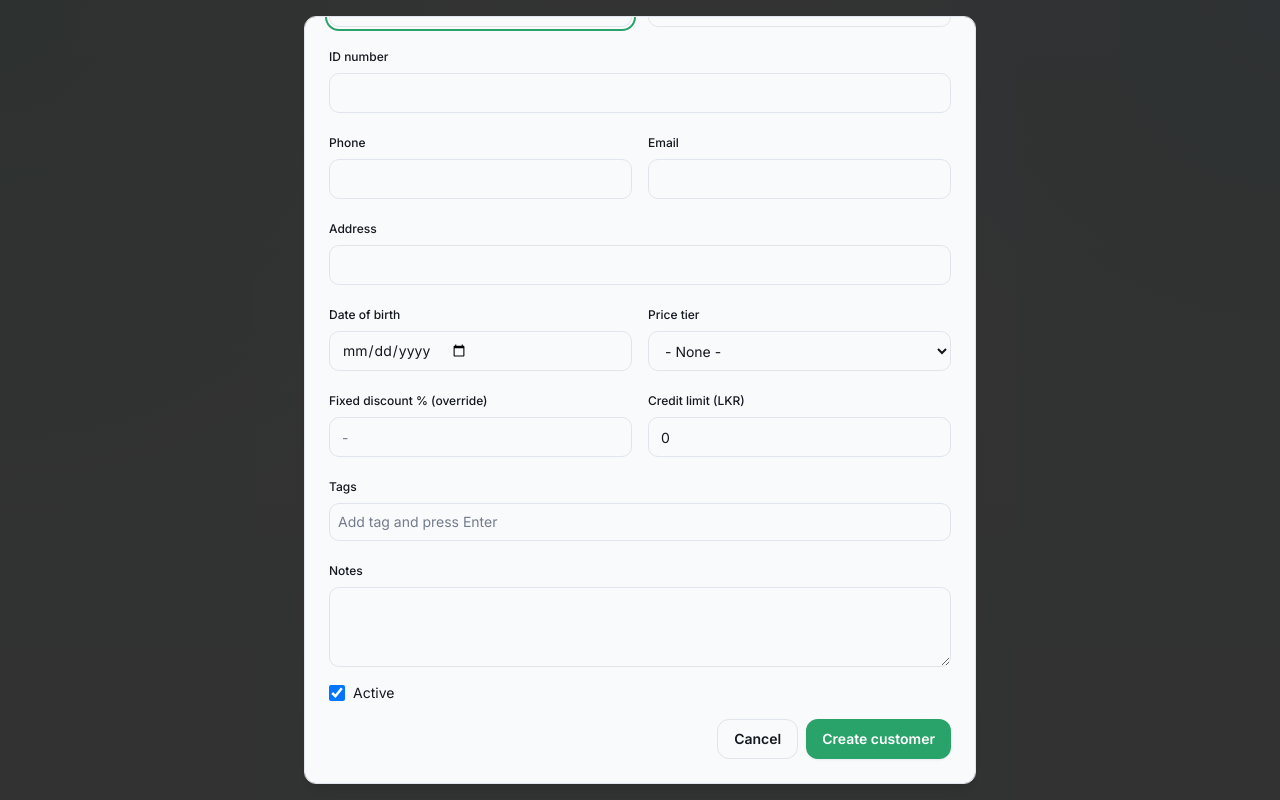
Scenario: CustomerCreateDialog › shows a required error when name is empty
The image size is (1280, 800).
(page scrolled)
Click the button "Create customer".
click(879, 739)  # box [806,719,951,759]
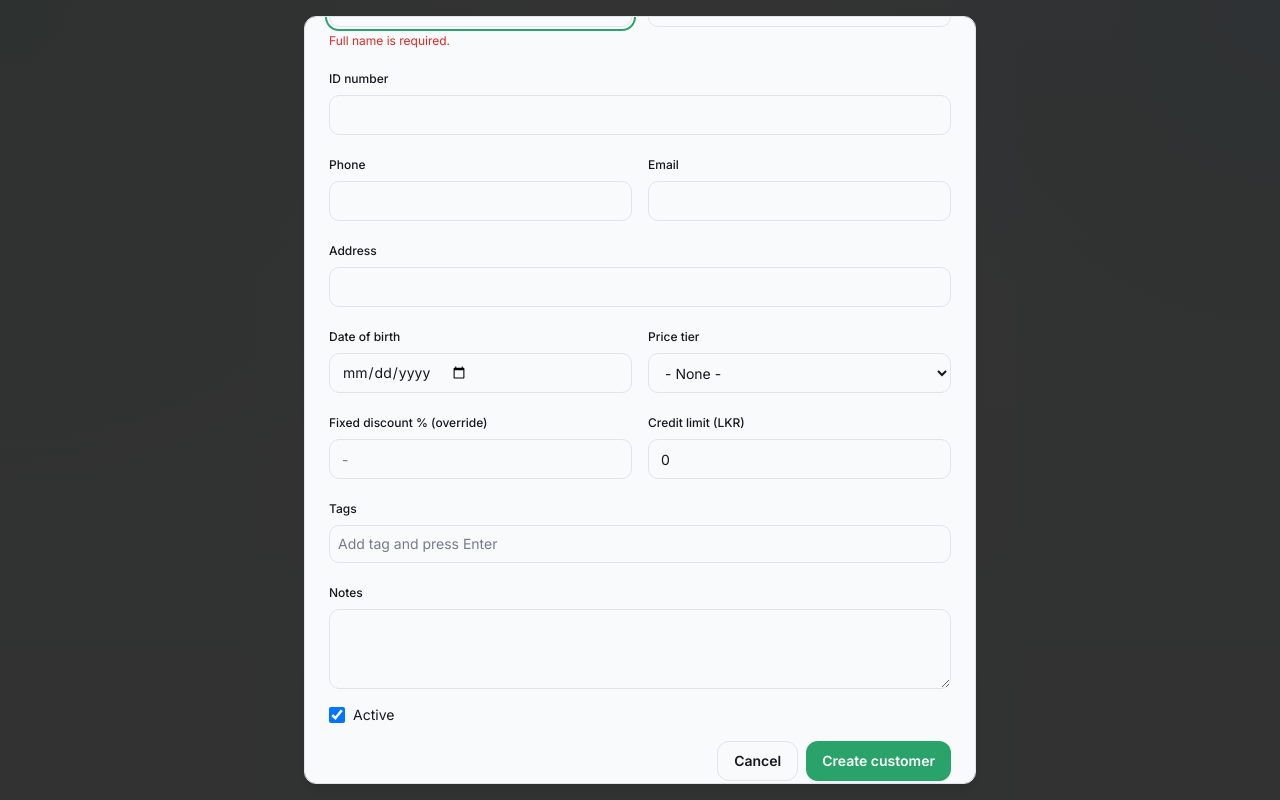
Expected: the text "Full name is required." is shown, [329,33,450,48]
